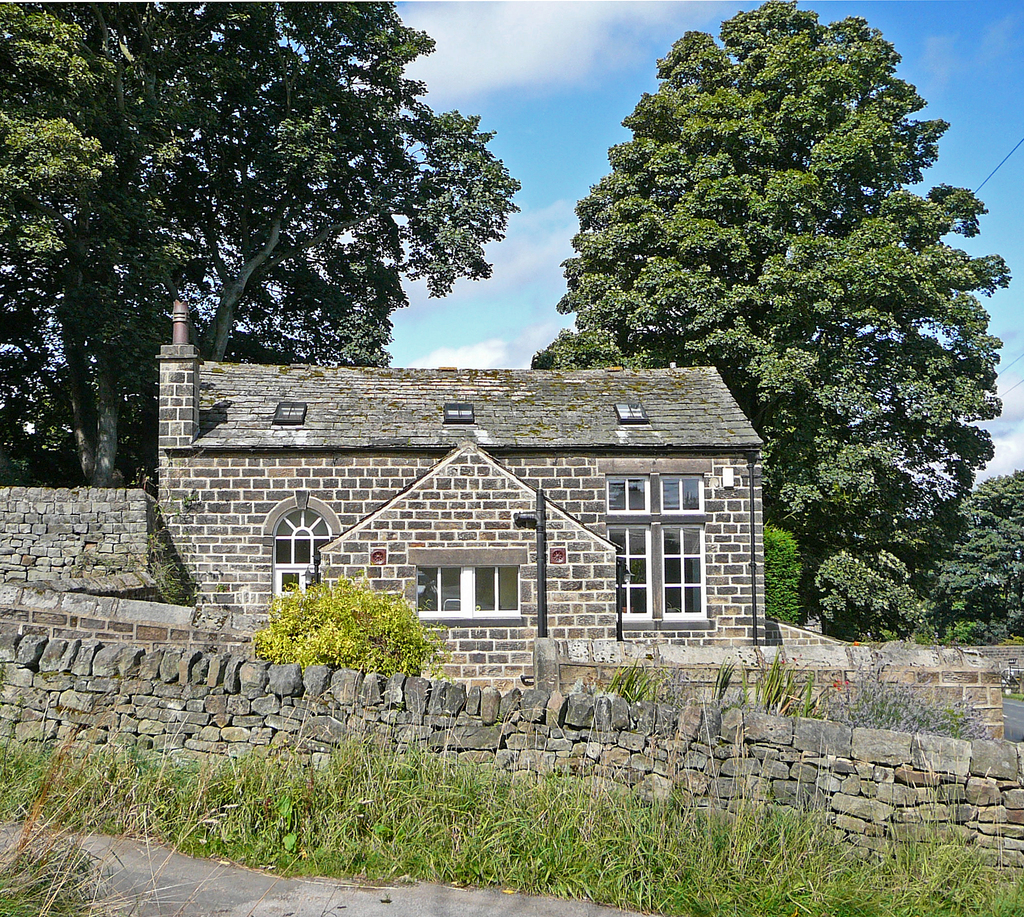Tree: (561, 1, 1006, 621), (0, 3, 525, 484), (764, 467, 1023, 649)
